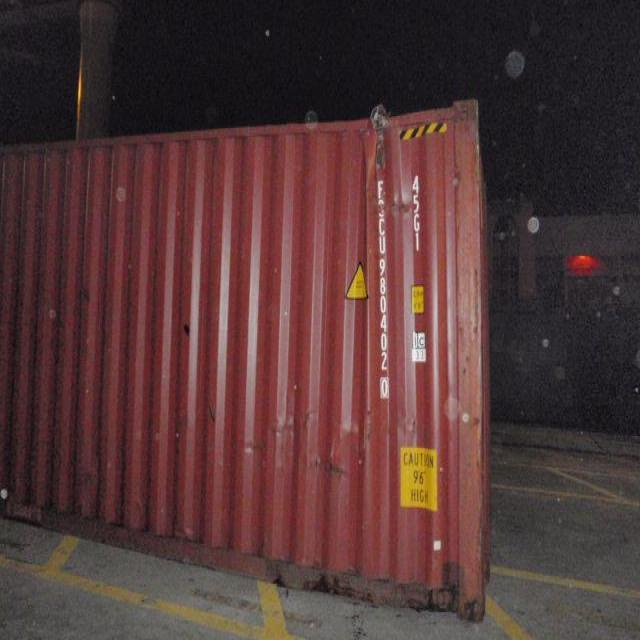dent: (241, 405, 325, 470), (359, 134, 384, 317), (338, 109, 414, 133), (399, 416, 419, 437), (397, 198, 413, 216), (339, 424, 359, 438)
